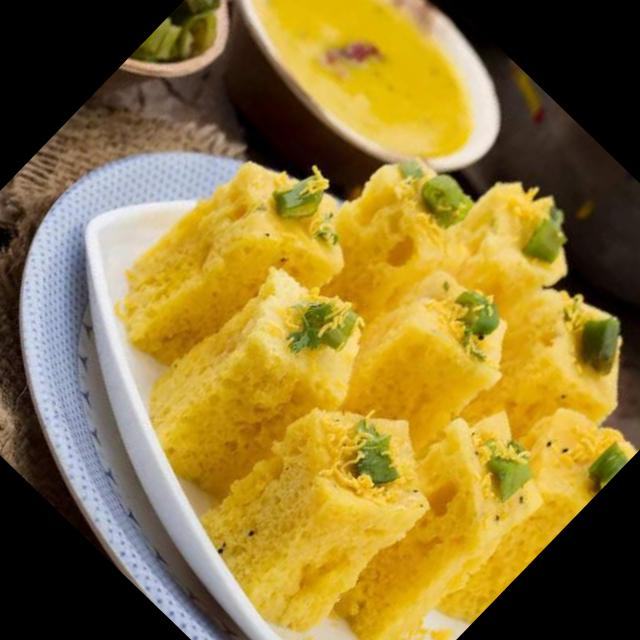dhokla: (75, 83, 640, 640)
